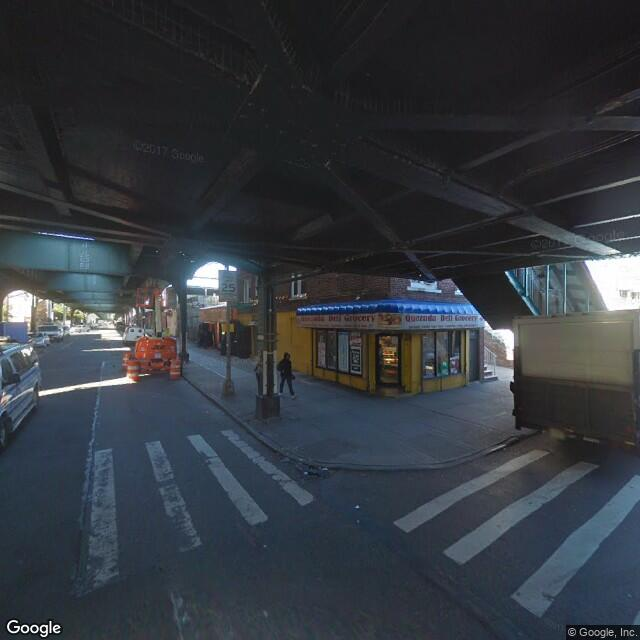litter: (261, 609, 271, 621), (353, 502, 362, 510), (319, 465, 330, 471), (303, 468, 310, 477), (260, 540, 267, 548)
